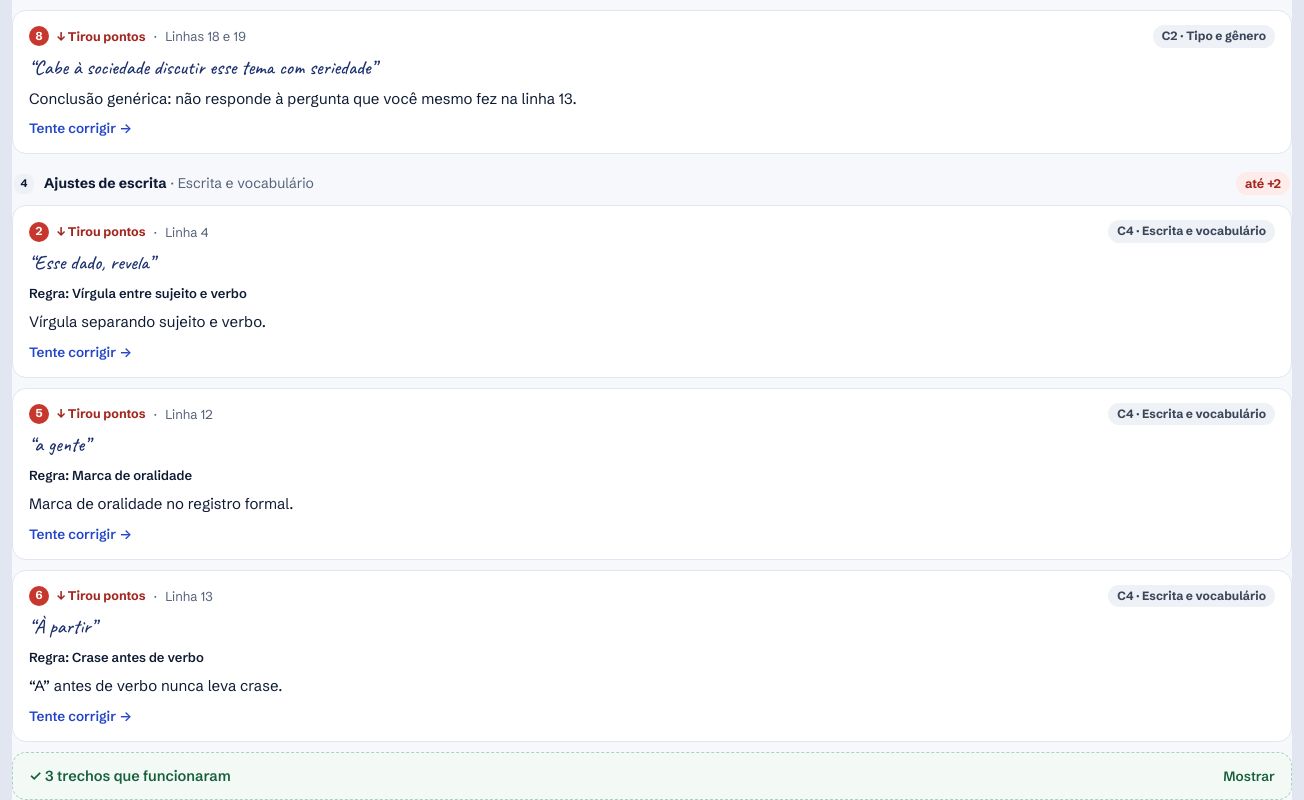
Test: AnnotationPanel › por importância, agrupa os desvios por critério, com o ganho, e recolhe os que funcionaram
(page scrolled)
Expected: the element showing "Ajustes de escrita · Escrita e vocabulário" is shown, x1=44 y1=173 x2=314 y2=195
Click the button "✓ 3 trechos que funcionaram Mostrar". click: (144, 776)
box: x1=12 y1=752 x2=1292 y2=799
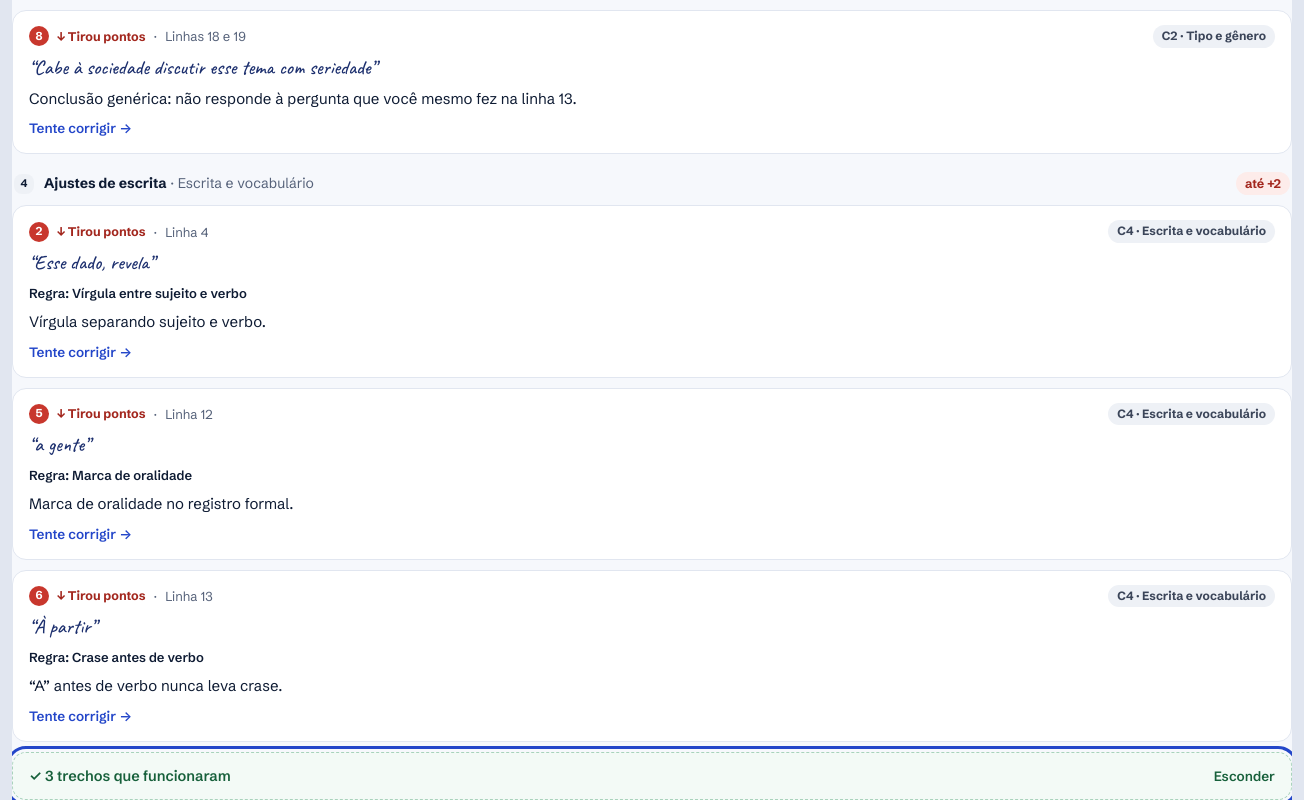
Now the button "✓ 3 trechos que funcionaram Esconder" is expanded, box x1=12 y1=752 x2=1292 y2=799
Now the button "✓ 3 trechos que funcionaram Esconder" is shown, box x1=12 y1=752 x2=1292 y2=799
